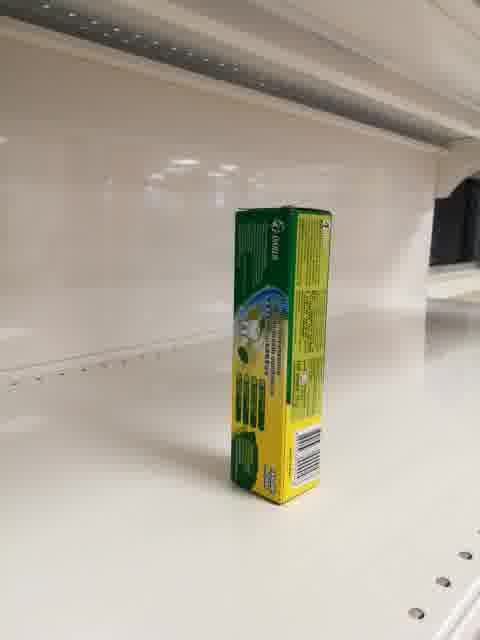toothpaste: (230, 206, 333, 507)
